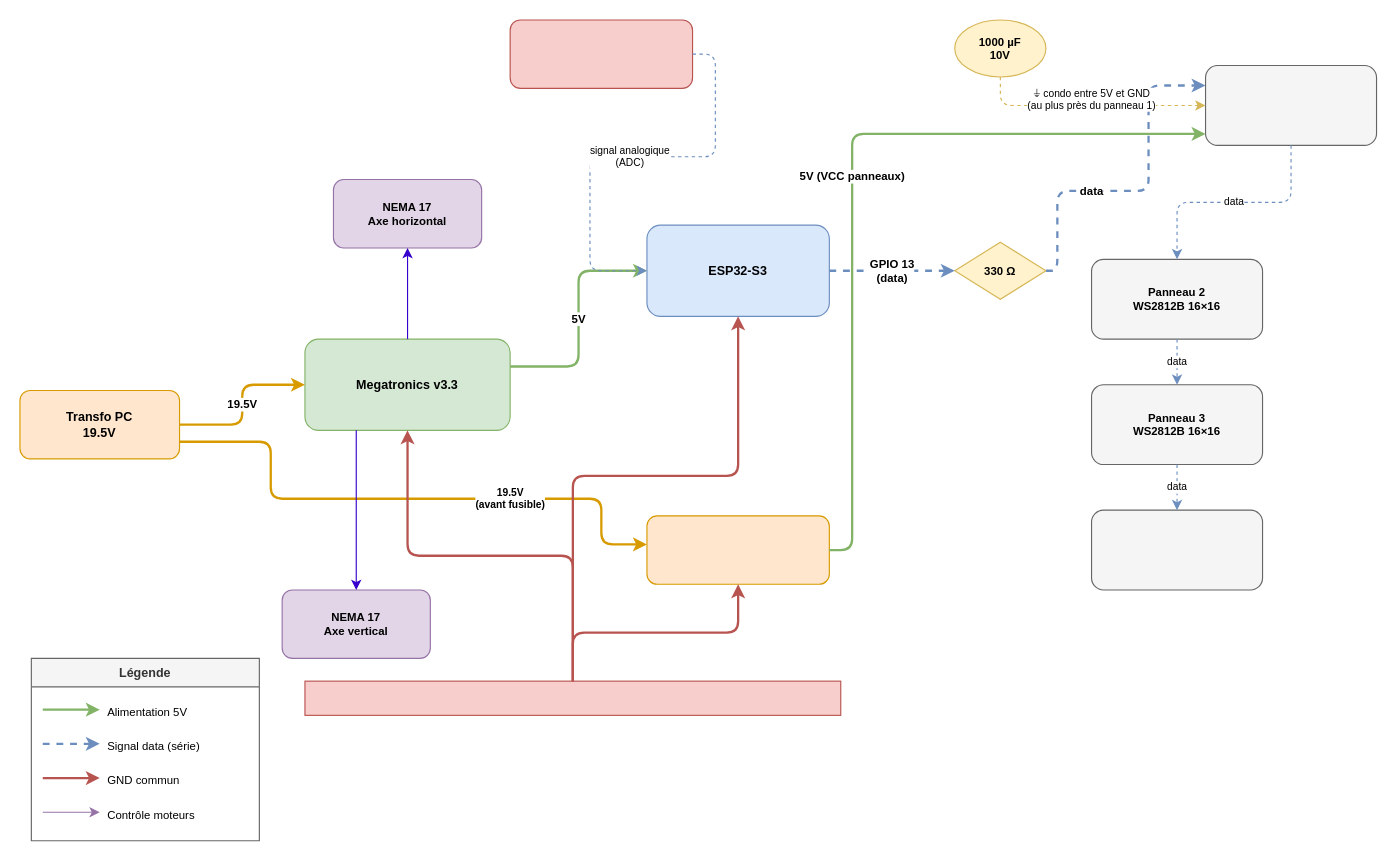
Image size: 1397x861. Some labels were removed from this diagram. Each missing label, with the centre of its shape:
GND: the point at 572,697
Microphone MAX9814 (gain −40 dB): the point at 601,53
Panneau 1 WS2812B 16×16: the point at 1290,104
Panneau 4 WS2812B 16×16: the point at 1176,549
Régulateur buck 5V (L7805CV): the point at 737,549
